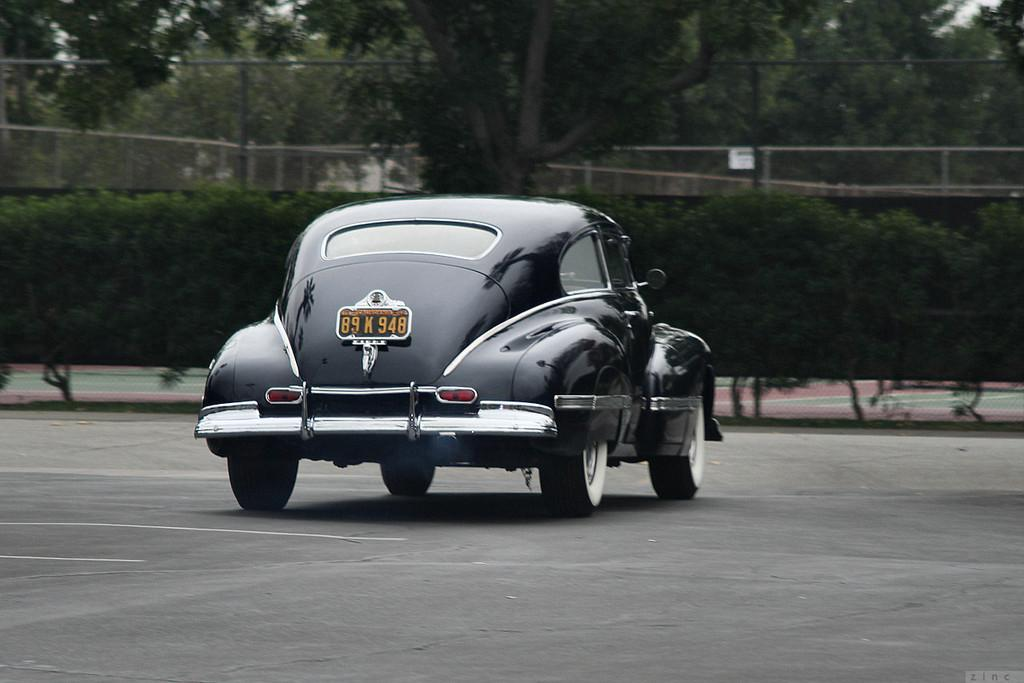vehicle: (194, 194, 722, 510)
